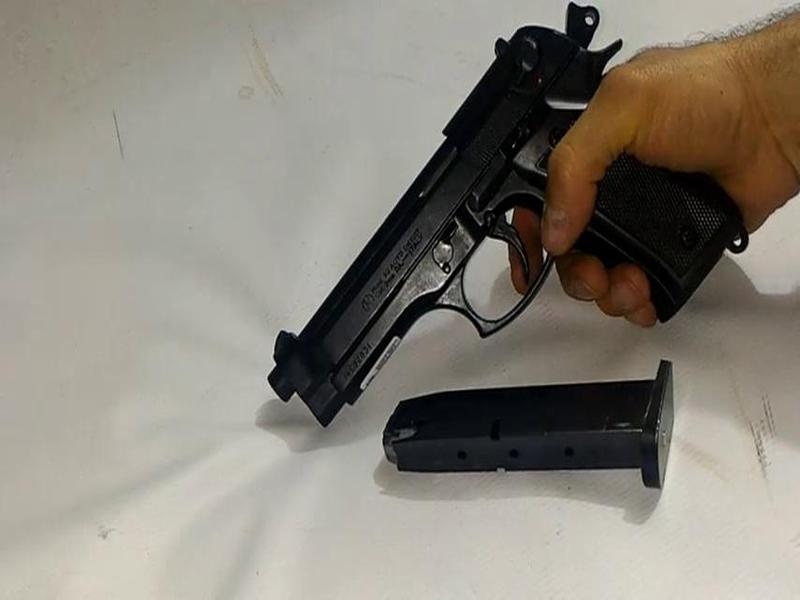Pistola: (229, 4, 729, 416)
